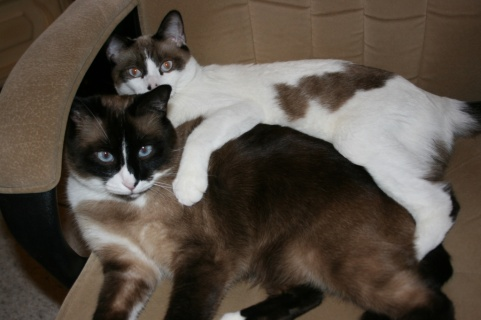Cat: (106, 9, 481, 260), (62, 82, 456, 320)
